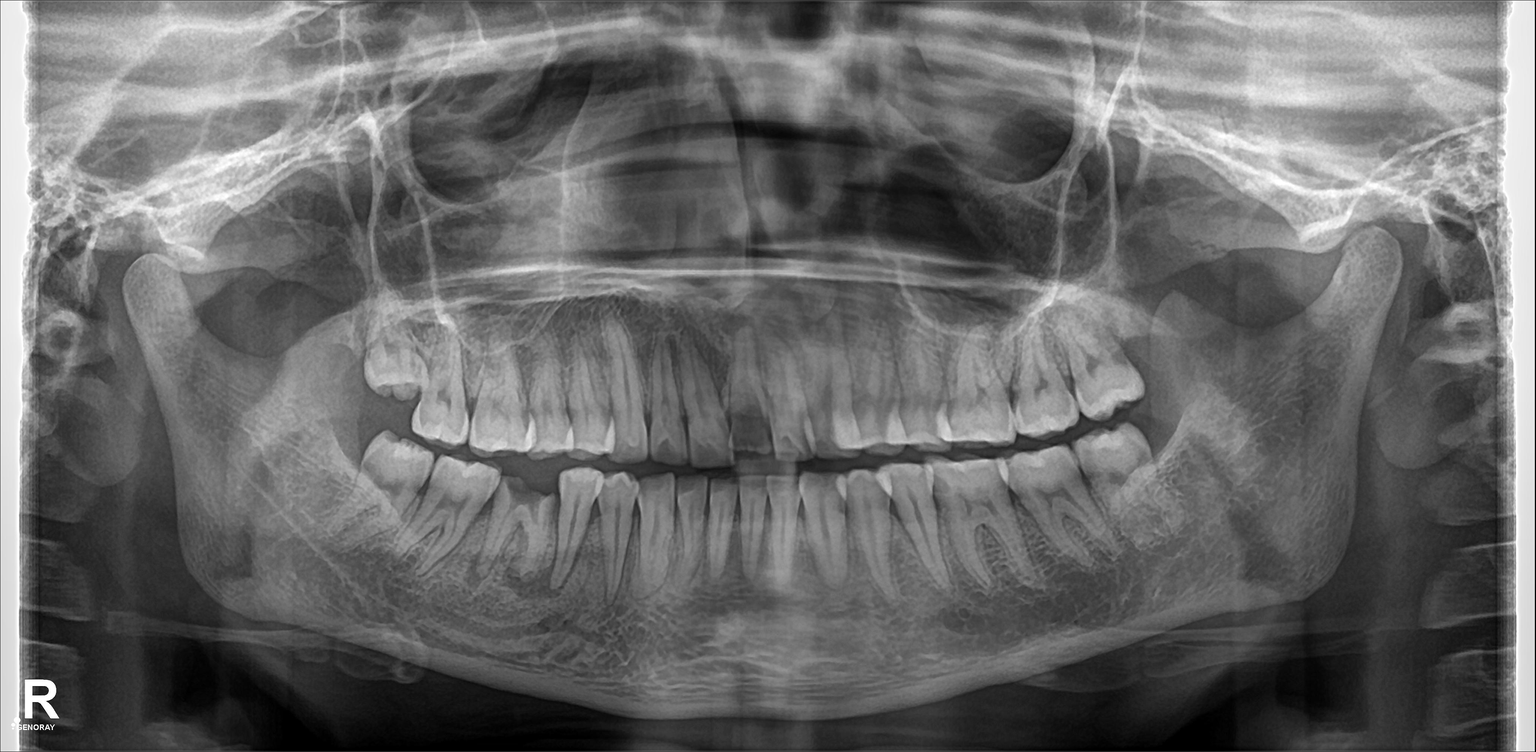Dental Caries: (505, 473, 548, 524), (730, 406, 770, 448)
Impacted Third Molar: (363, 328, 429, 395)
Missing Tooth: (315, 417, 366, 493)
Retained Root: (497, 469, 557, 585)
